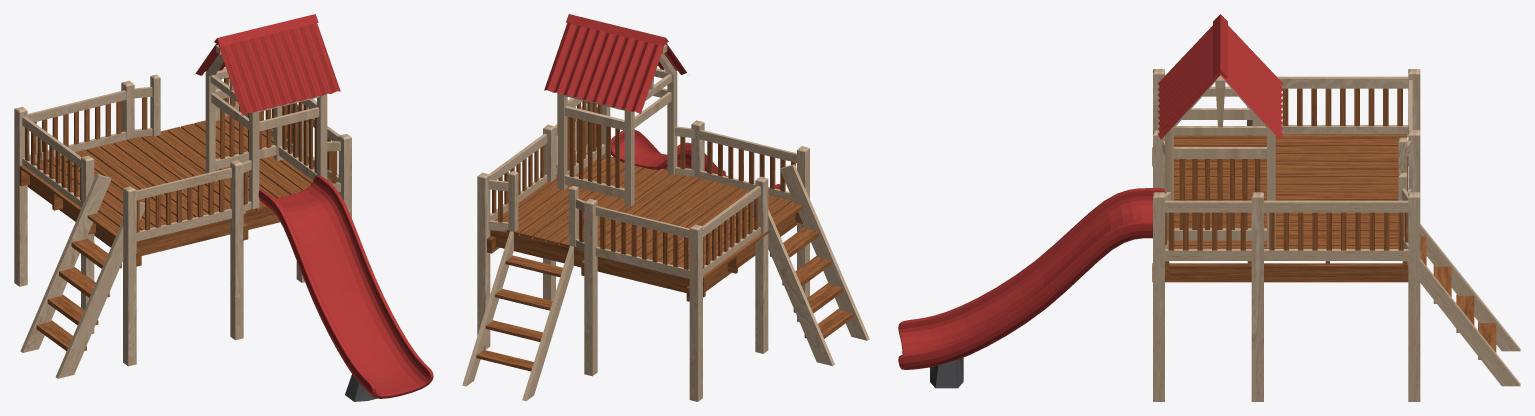
File: childHut.obj
3 renders of one model, left to right at view 1: azimuth 30°, elevation 25°; view 2: azimuth 150°, elevation 25°; view 3: azimuth 270°, elevation 25°, orthographic. The views are drawn at different scales.
Parts seen in each view (by area): view 1: WoodParts, ChidHut; view 2: WoodParts, ChidHut; view 3: WoodParts, ChidHut.
Boxes of the visible parts, box(x1,y1,x2,y2) form: WoodParts: box(14, 45, 351, 378); ChidHut: box(195, 14, 433, 401); WoodParts: box(462, 44, 869, 401); ChidHut: box(544, 14, 780, 189); WoodParts: box(1152, 69, 1520, 401); ChidHut: box(898, 14, 1282, 388).
Bounding box in the file's own units: 328 × 302 × 521.
